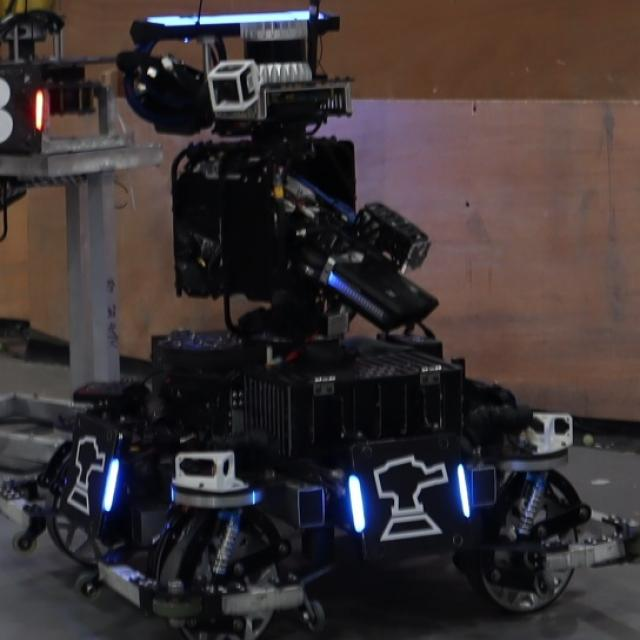Bs: (342, 448, 478, 546), (66, 428, 121, 525)
R3: (1, 76, 45, 154)
